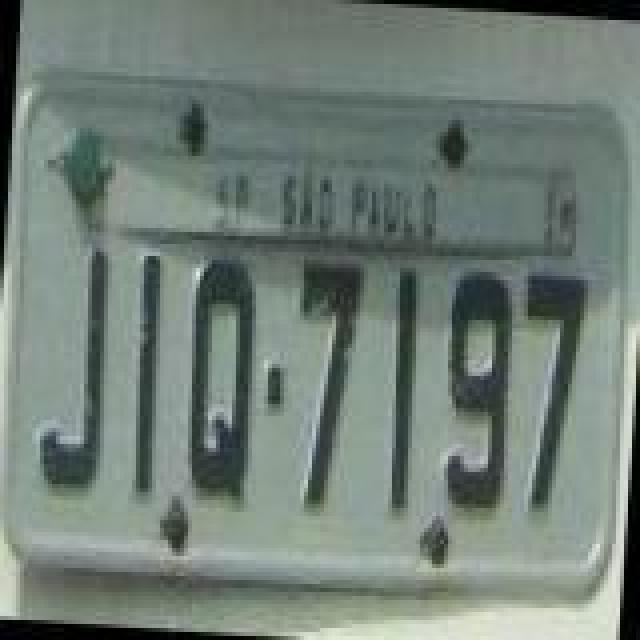1: (124, 250, 172, 502), (382, 266, 426, 518)
7: (282, 252, 366, 516), (514, 266, 590, 518)
9: (434, 266, 518, 518)
J: (30, 242, 114, 494)
Q: (178, 254, 262, 514)
